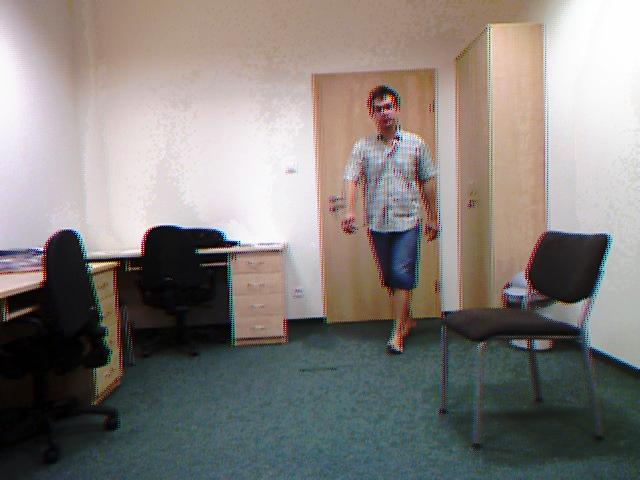standing: (334, 79, 466, 362)
